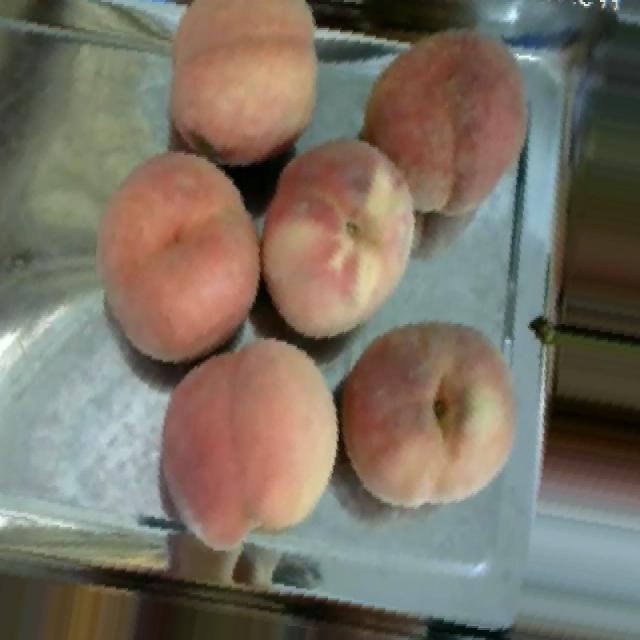Fruit: (140, 318, 355, 570), (72, 127, 263, 380), (329, 302, 540, 529), (348, 14, 547, 236), (259, 115, 437, 356), (140, 0, 340, 179)
